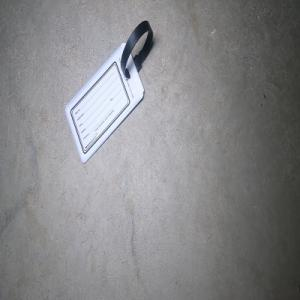LuggageTag: (63, 19, 154, 165)
